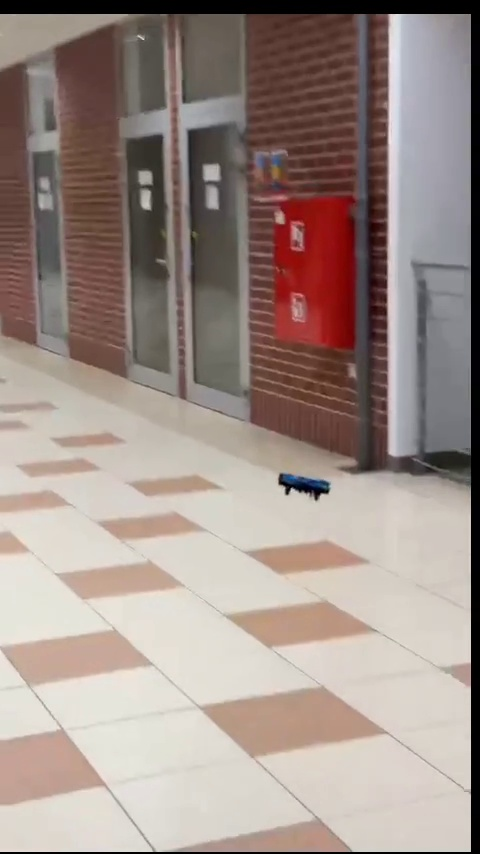drone: (279, 470, 333, 499)
